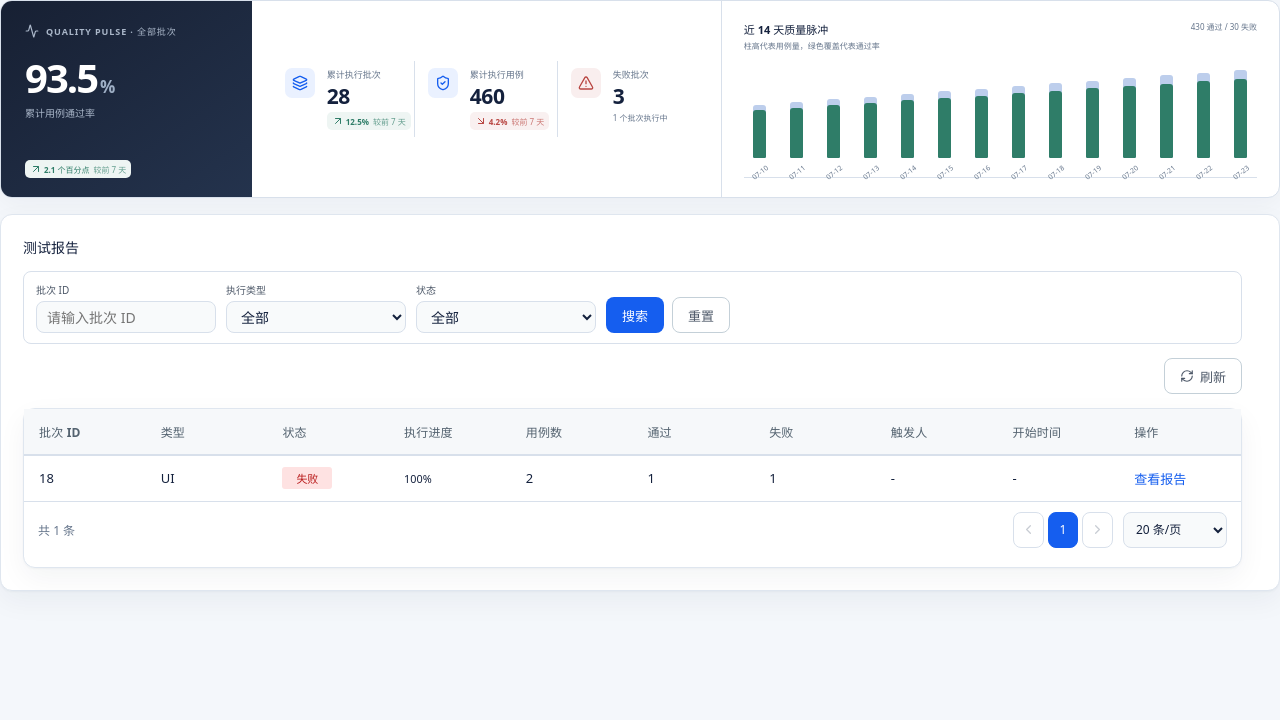
Test: 执行记录自动刷新 › 展示丰富的测试结论、失败定位与日志明细
Expected: the text "93.5" is shown, [25,50,97,105]
Expected: the text "累计执行批次" is shown, [327,68,381,81]
Click the button "查看报告" at (1160, 478), box [1134,460,1186,496]
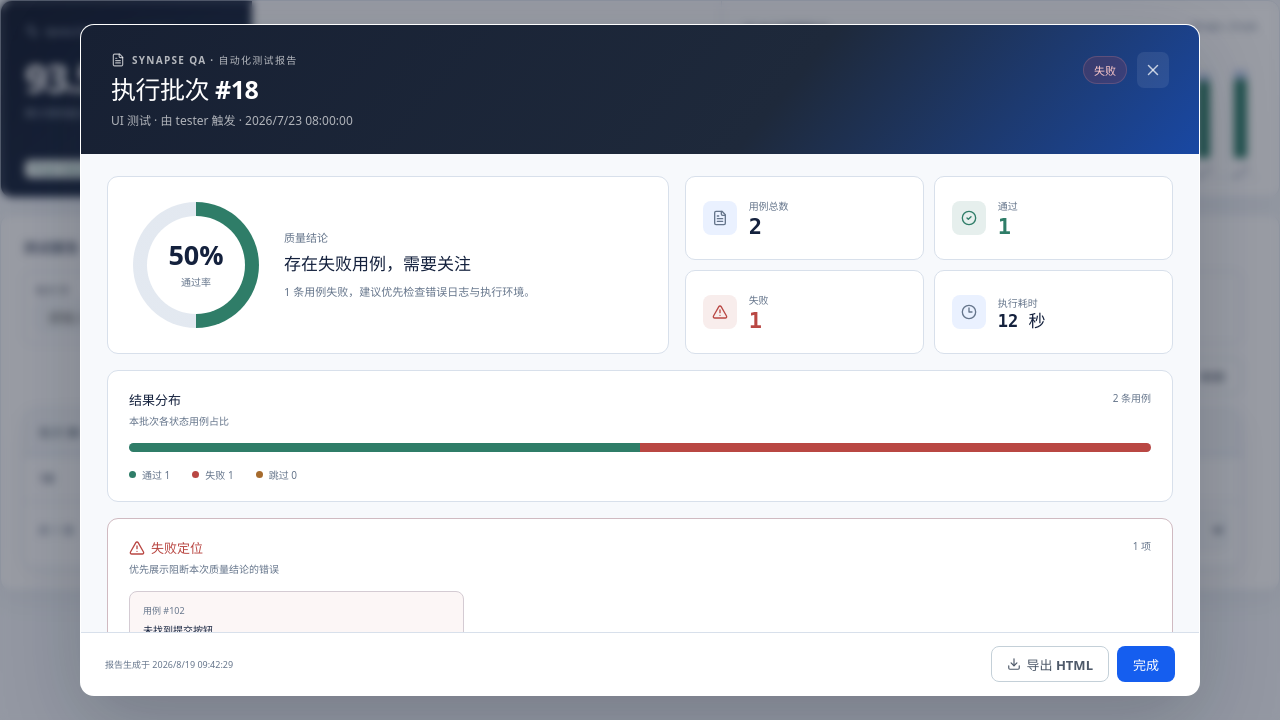
Now the text "50%" is shown, box [168,241,224,268]
Now the text "存在失败用例，需要关注" is shown, box [284,252,471,275]
Now the text "失败定位" is shown, box [129,539,203,557]
